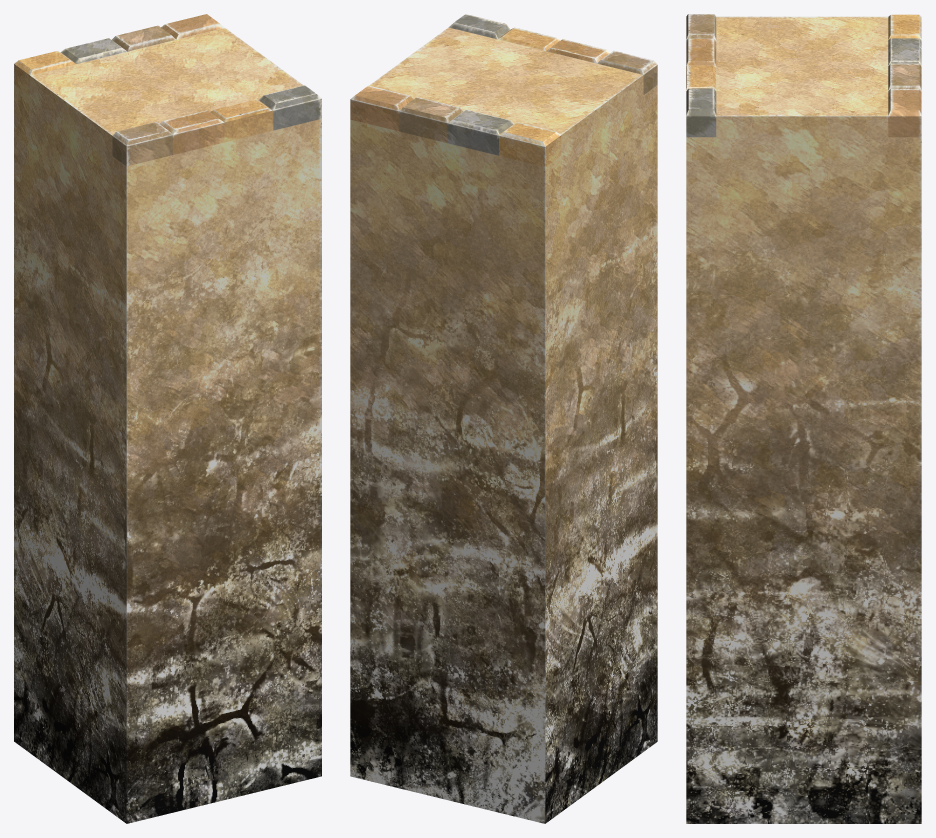
File: Baldosa para piso.fbx
3 views of the same model, side by side, from view 1: azimuth 30°, elevation 25°; view 2: azimuth 150°, elevation 25°; view 3: azimuth 270°, elevation 25° (orthographic). The views are drawn at different scales.
Parts seen in each view (by area): view 1: Cube.053; view 2: Cube.053; view 3: Cube.053.
Part boxes in pixels (x1,y1,x2,y2): Cube.053: (14, 14, 321, 823); Cube.053: (350, 14, 657, 823); Cube.053: (686, 14, 921, 823).
Bounding box in the file's own units: 200 × 668 × 200.
1 material, 1 textured.
